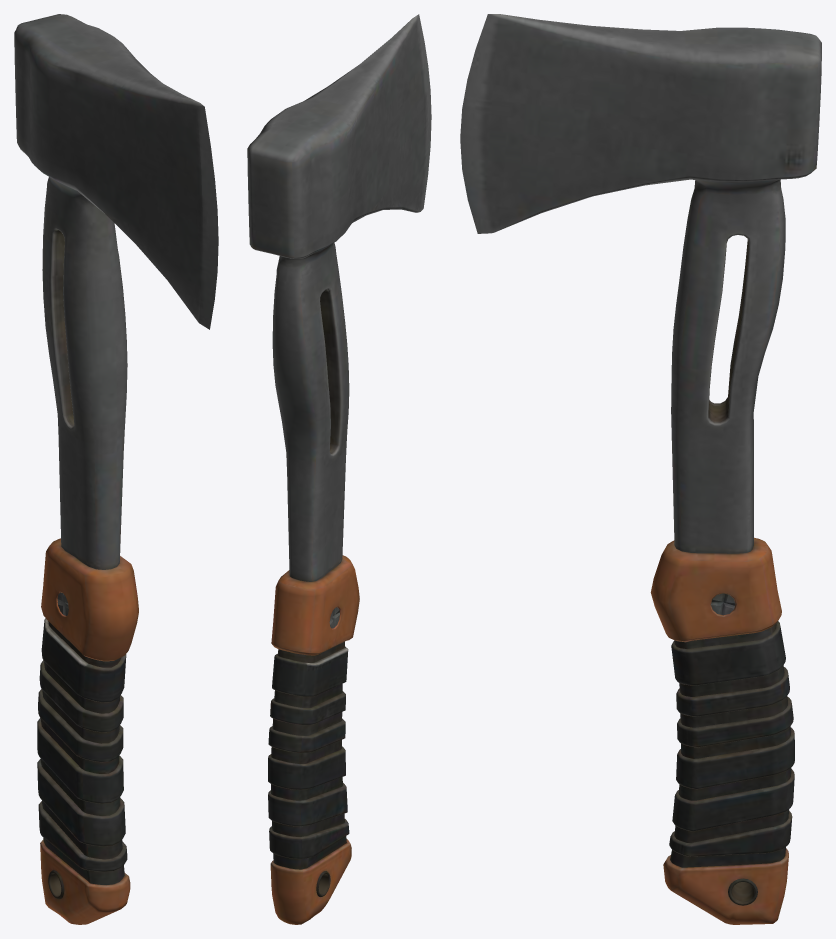
File: hatchet.gltf
3 renders of one model, left to right at view 1: azimuth 30°, elevation 25°; view 2: azimuth 150°, elevation 25°; view 3: azimuth 270°, elevation 25°, orthographic. The views are drawn at different scales.
Visible parts, largest first — view 1: hatchet; view 2: hatchet; view 3: hatchet.
Part boxes in pixels (<box>): hatchet: <box>14,14,218,924</box>; hatchet: <box>247,14,431,924</box>; hatchet: <box>460,14,821,924</box>.
Bounding box in the file's own units: 0.026 × 0.2887 × 0.1043.
1 material, 1 textured.
